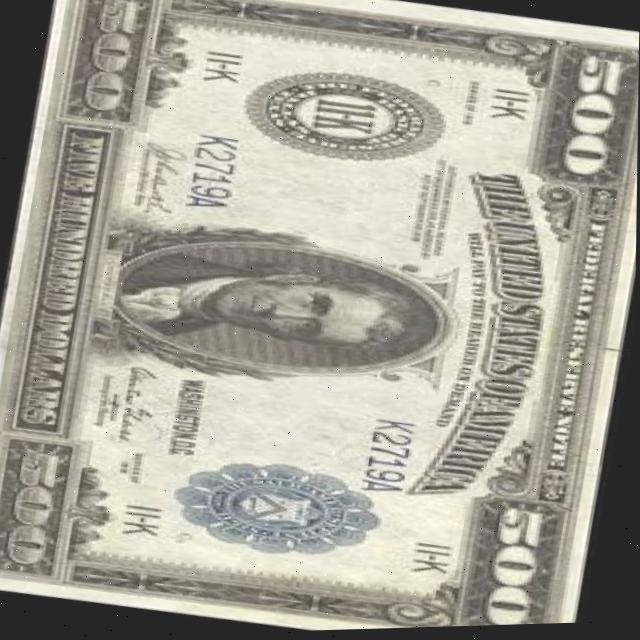banknote: (0, 0, 640, 640), (33, 129, 112, 319), (549, 50, 639, 188), (469, 504, 556, 629), (0, 439, 70, 572), (69, 0, 143, 115)
